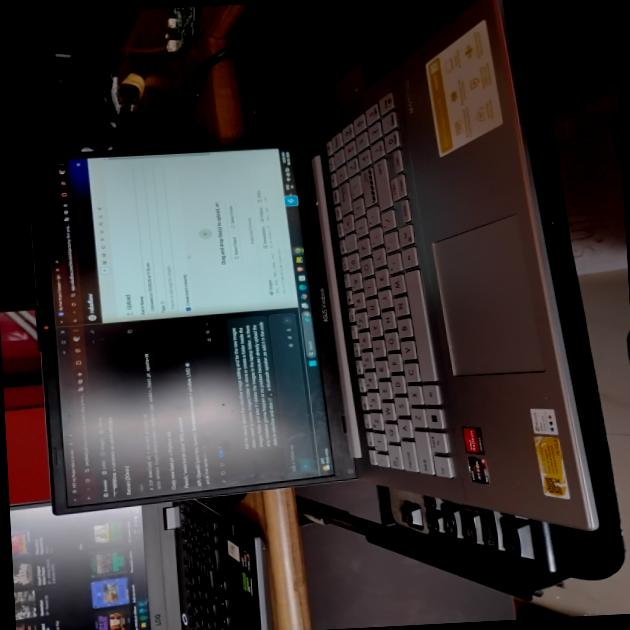laptop: (4, 0, 630, 531)
